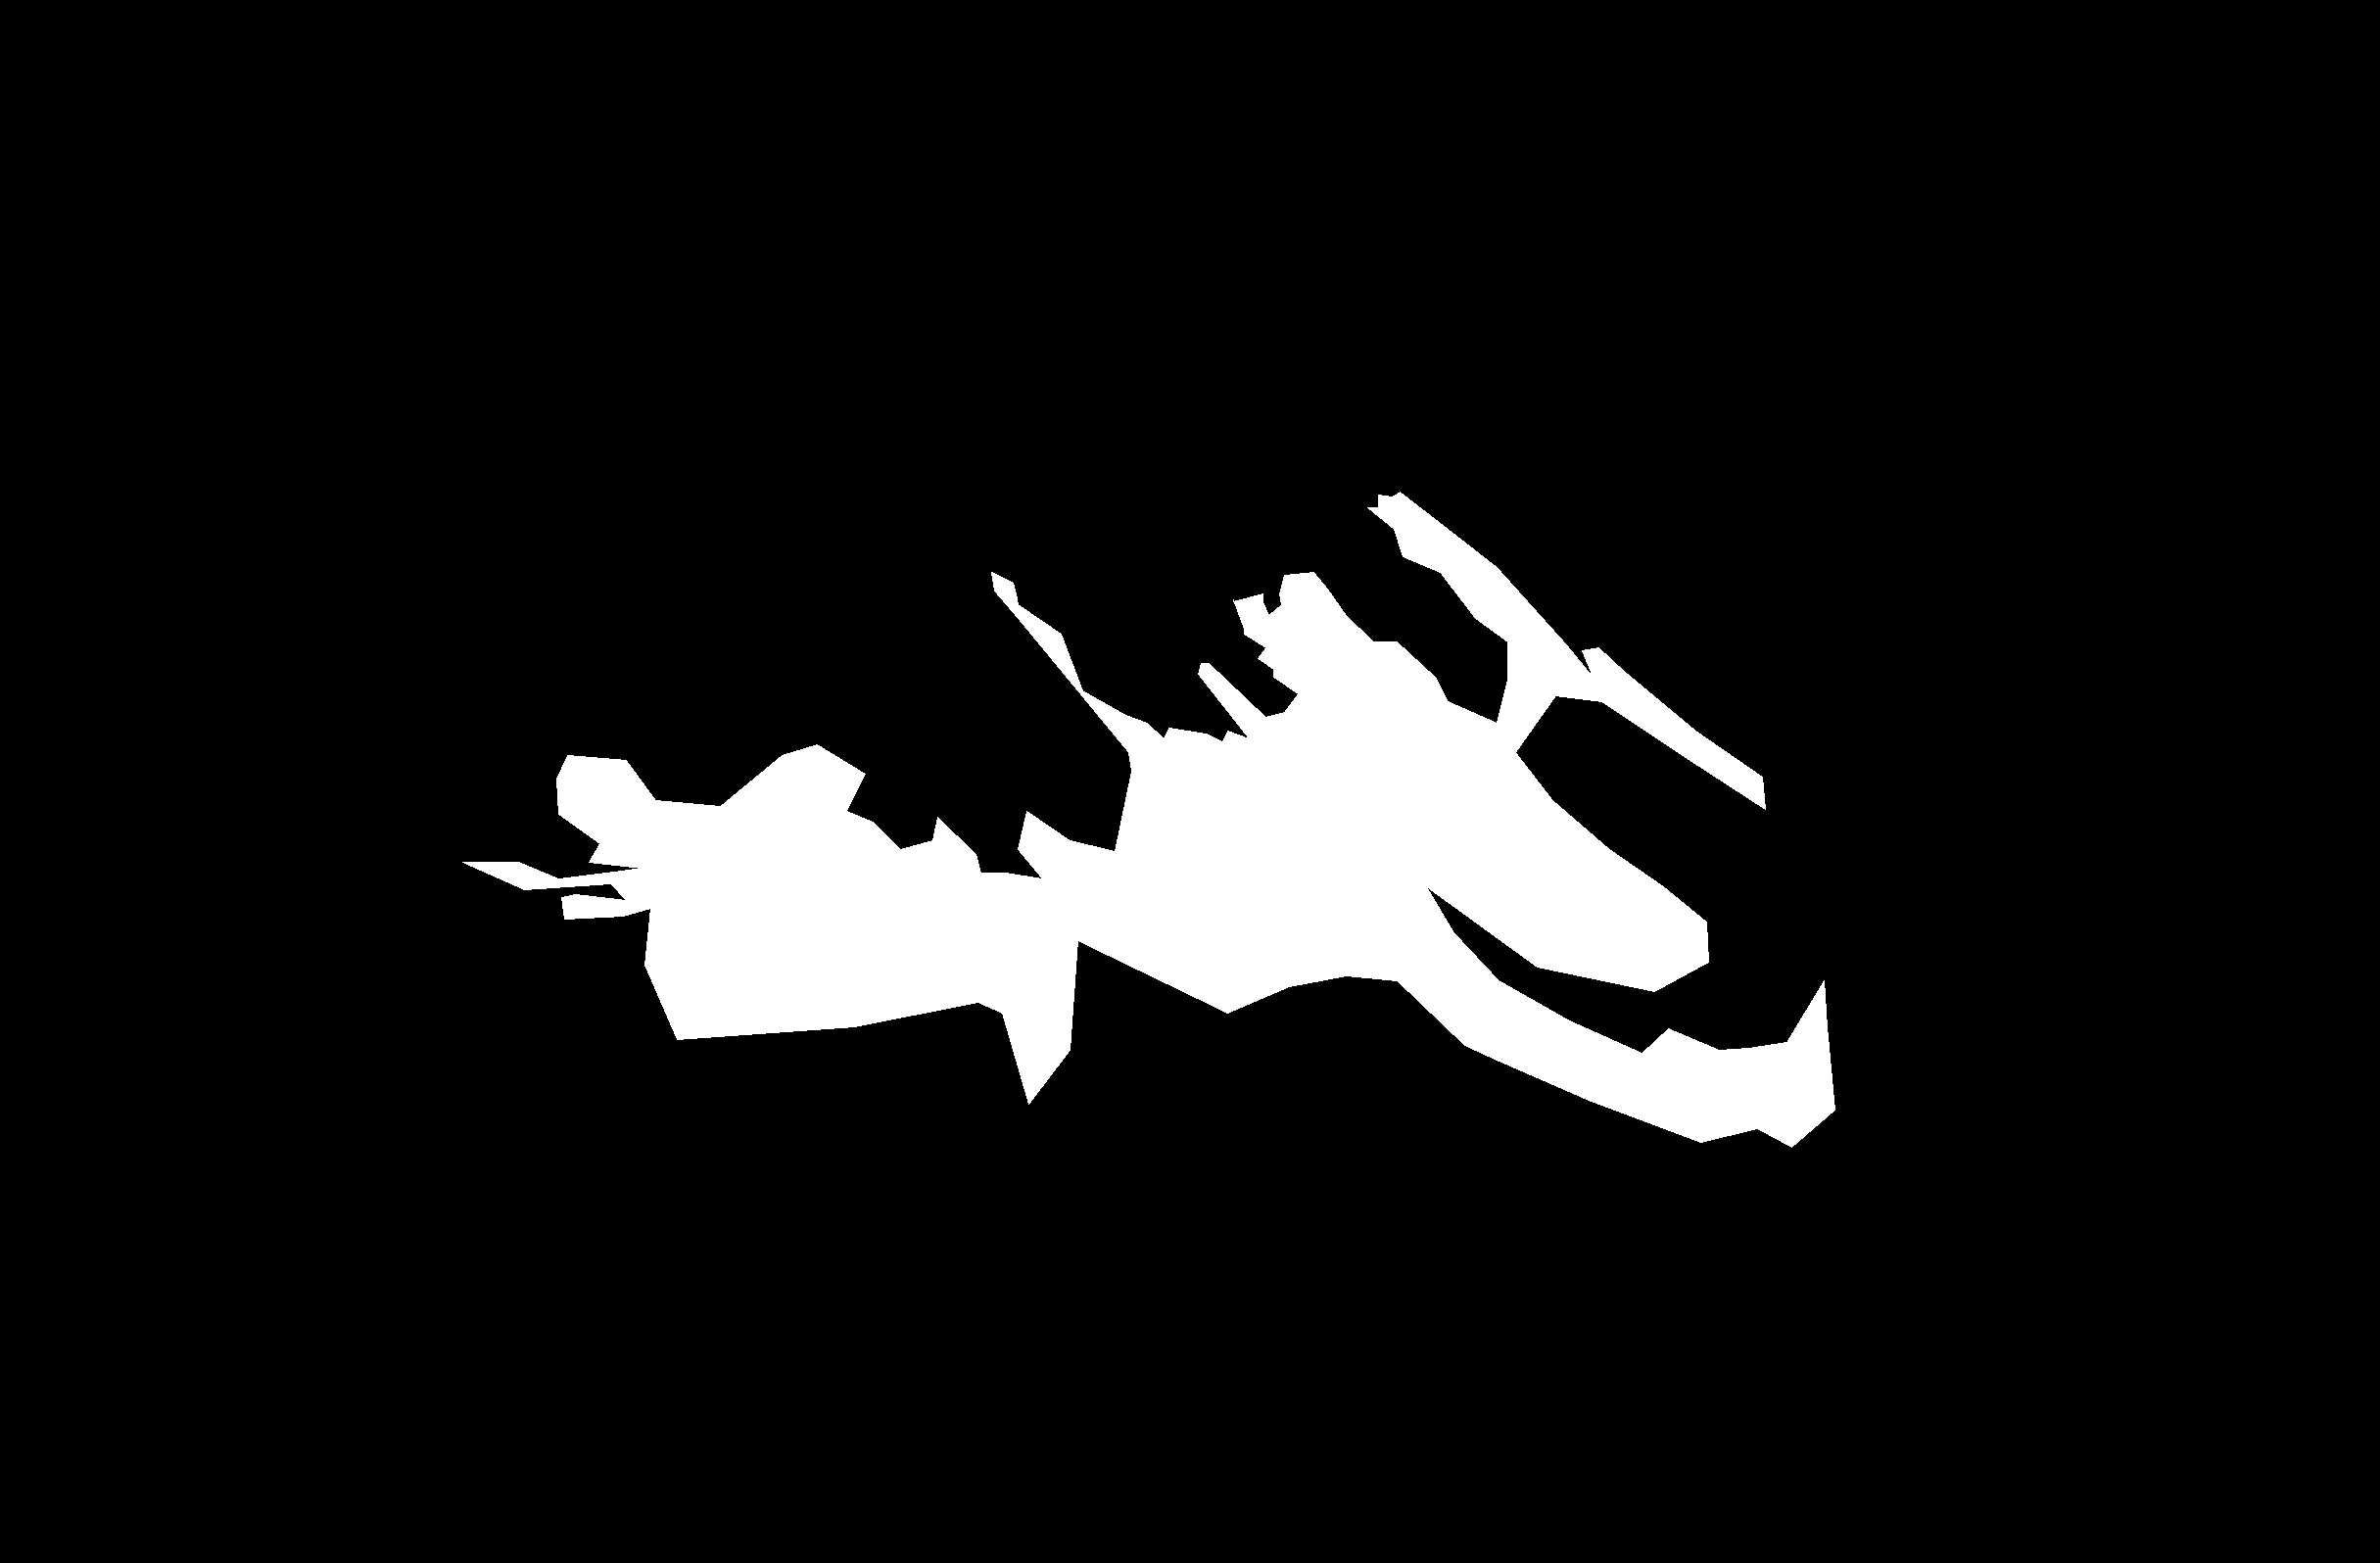Fire: (1122, 570, 1433, 970), (600, 825, 1002, 968), (1375, 485, 1523, 631)
